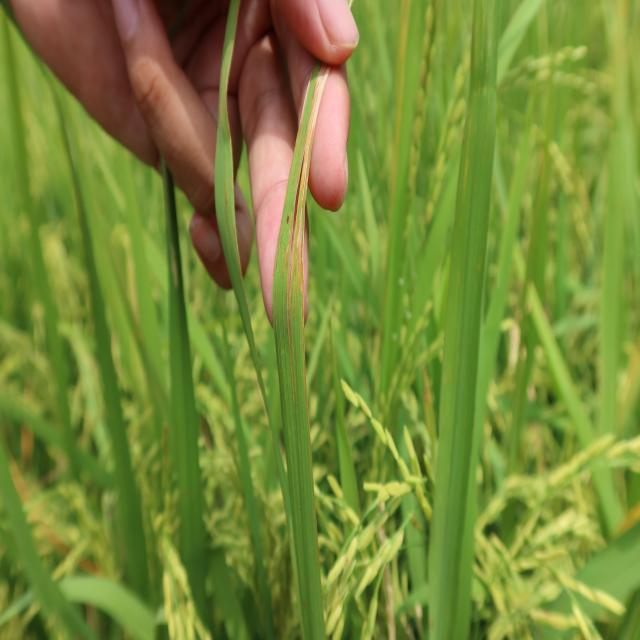Dom soc vi khuan: (293, 123, 314, 333), (287, 262, 296, 403), (294, 127, 307, 199), (285, 206, 293, 271), (281, 248, 286, 279)
